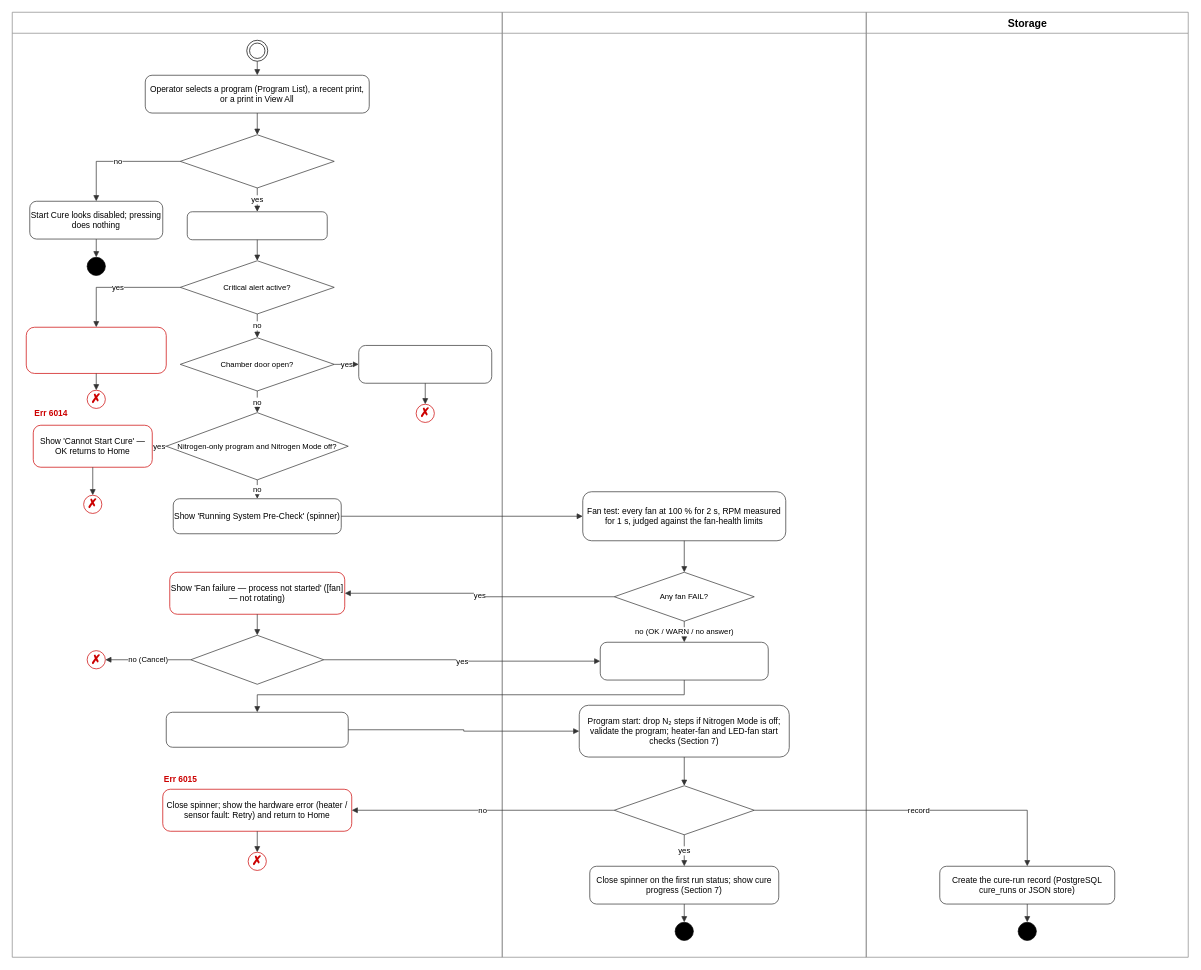
The diagram is 1201 pixels wide and 970 high, and some of its shapes have lost their labels. Each missing label, with the box of its shape:
Active program resolved?: (180, 134, 334, 188)
Continue anyway?: (190, 635, 324, 684)
FW: (502, 12, 866, 957)
Hint 'Close the door to start the cure'; no start: (358, 345, 492, 383)
Open Cure Process; the pre-check spinner stays up: (166, 712, 348, 747)
Override the failed fans for this run (choice recorded): (600, 642, 768, 680)
Press Start Cure: (187, 211, 327, 240)
Show 'Critical alert active' (up to 4 alerts) — Close / Go to alerts: (26, 327, 166, 373)
Start accepted?: (614, 785, 754, 835)
UI: (12, 12, 502, 957)
